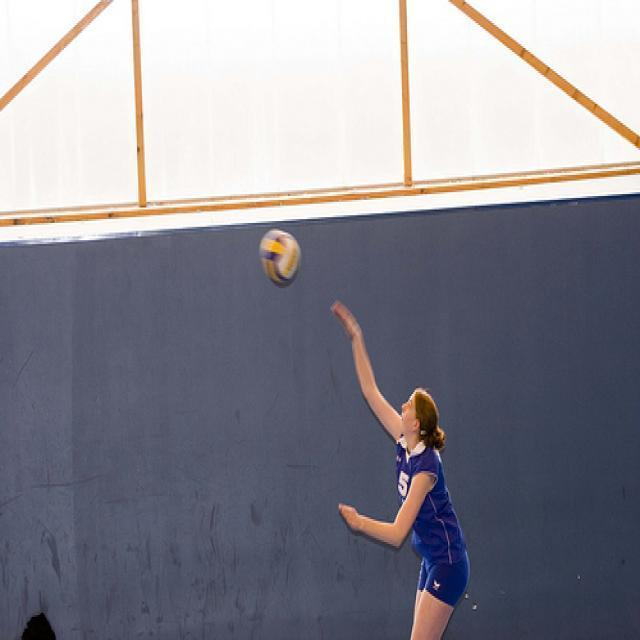volleyball: (259, 228, 303, 288)
